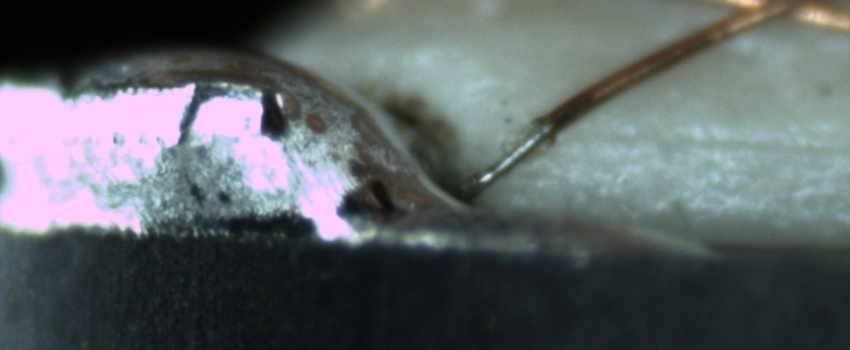CL: (727, 1, 833, 30)
DL: (564, 110, 849, 174)
TS: (458, 119, 555, 199)
TTCW: (463, 92, 592, 203)
